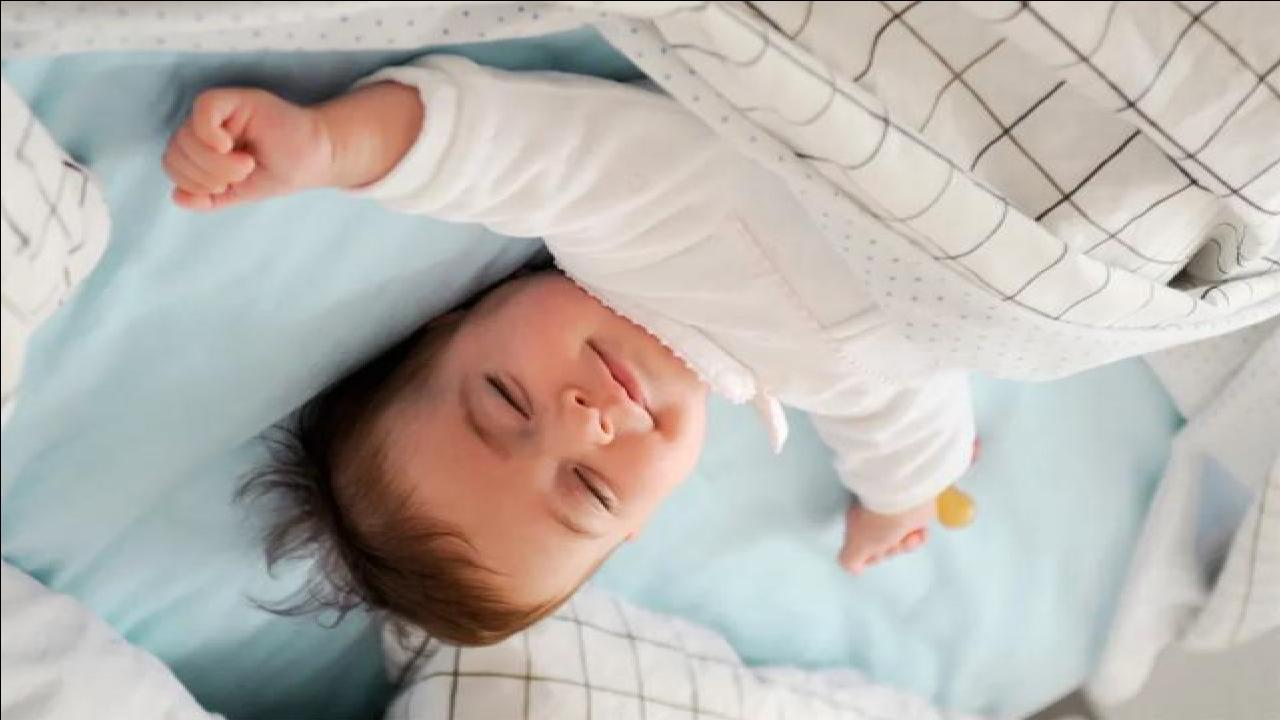hand: (165, 88, 326, 209), (839, 509, 925, 577)
